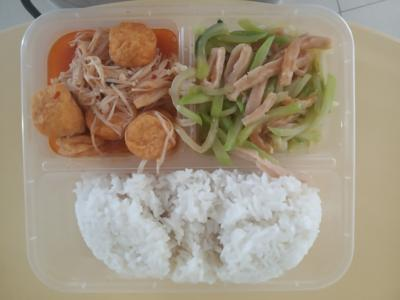rice: (60, 171, 335, 285)
